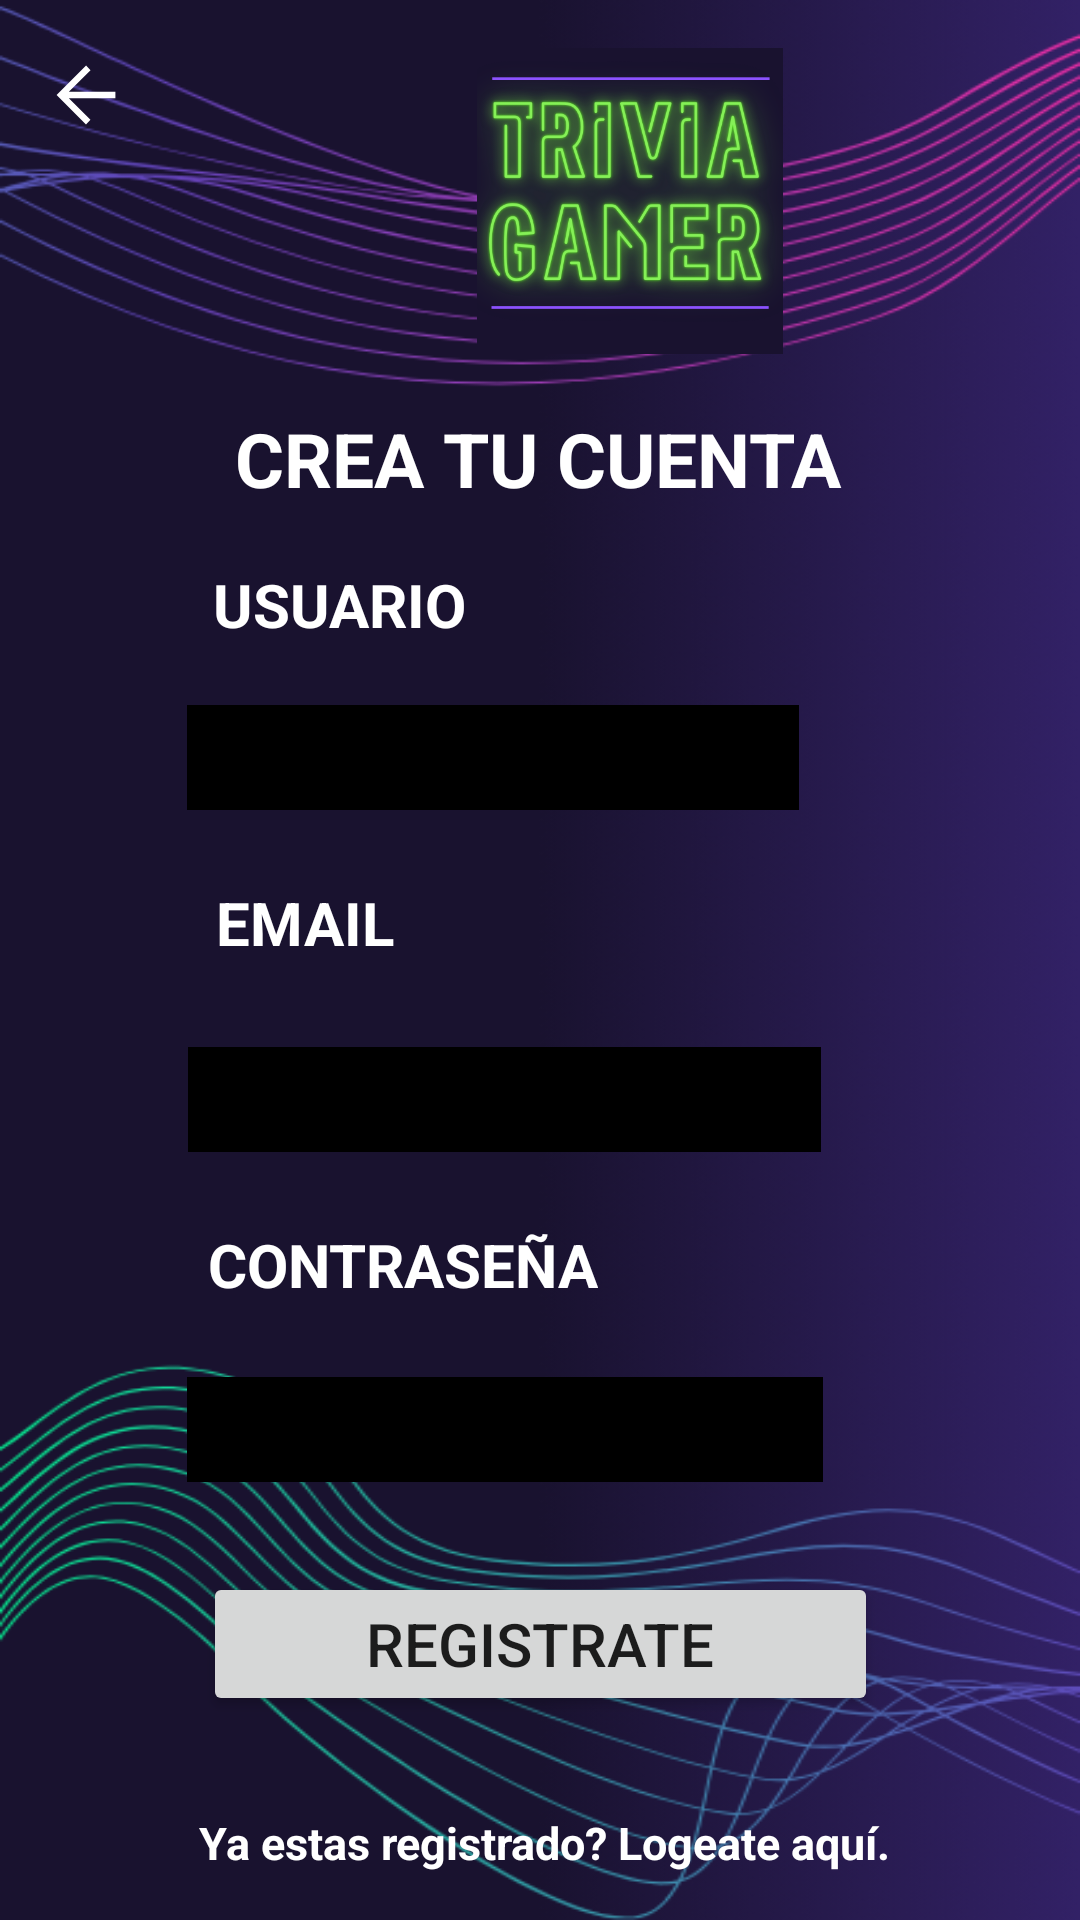

Icon click points for this 1080w x 1920h phone screenshot, format (x,y):
back: (86,94)
